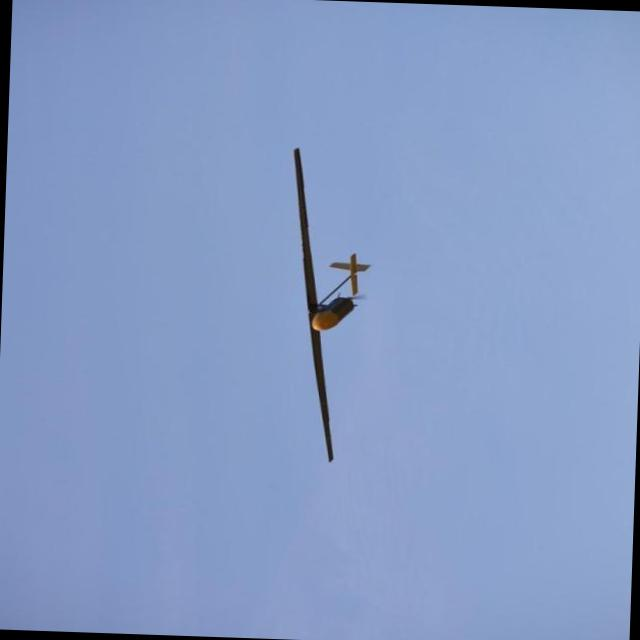UAV: (238, 186, 372, 466)
